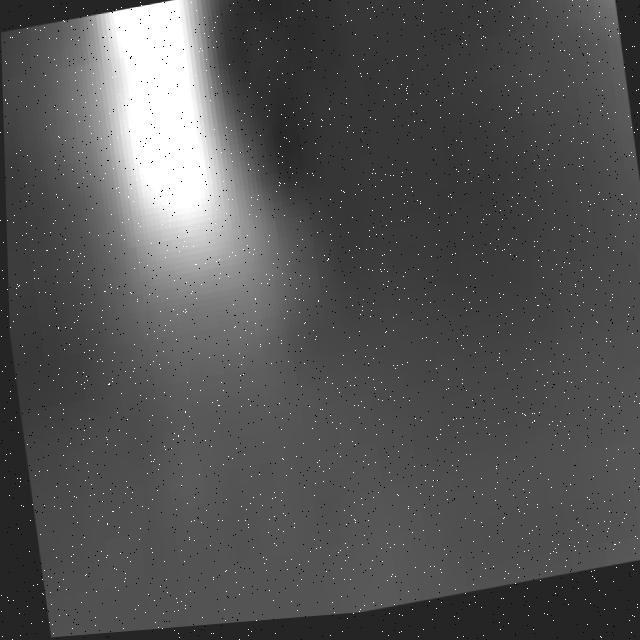person: (69, 1, 323, 428)
